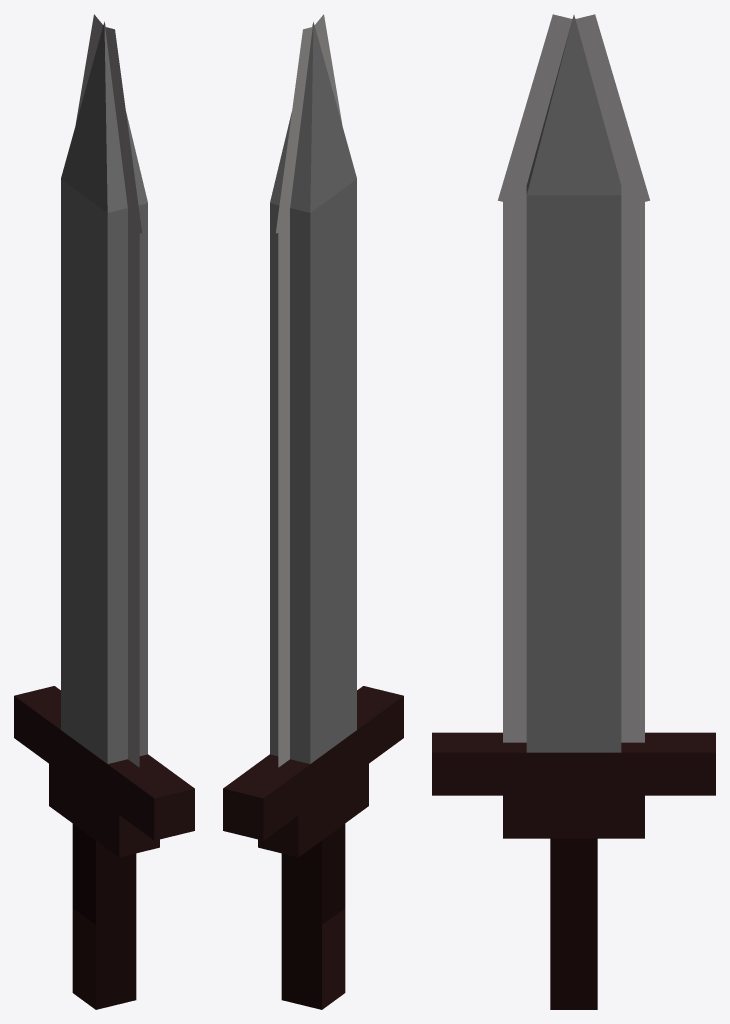
File: sword.gltf
3 views of the same model, side by side, from view 1: azimuth 30°, elevation 25°; view 2: azimuth 150°, elevation 25°; view 3: azimuth 270°, elevation 25° (orthographic).
Visible parts, largest first — view 1: cube (×6), pyramid, plane; view 2: cube (×6), pyramid, plane; view 3: cube (×6), plane, pyramid.
Boxes of the visible parts, x1=… form: cube (×6): x1=14, y1=14, x2=194, y2=1009; pyramid: x1=61, y1=21, x2=147, y2=212; plane: x1=128, y1=208, x2=139, y2=767; cube (×6): x1=223, y1=14, x2=403, y2=1009; pyramid: x1=270, y1=21, x2=356, y2=212; plane: x1=278, y1=208, x2=289, y2=767; cube (×6): x1=432, y1=14, x2=715, y2=1009; plane: x1=503, y1=202, x2=644, y2=742; pyramid: x1=526, y1=15, x2=621, y2=195.
Size of the model in its own units: 0.0625 by 1.44 by 0.375.
2 materials, 2 textured.
